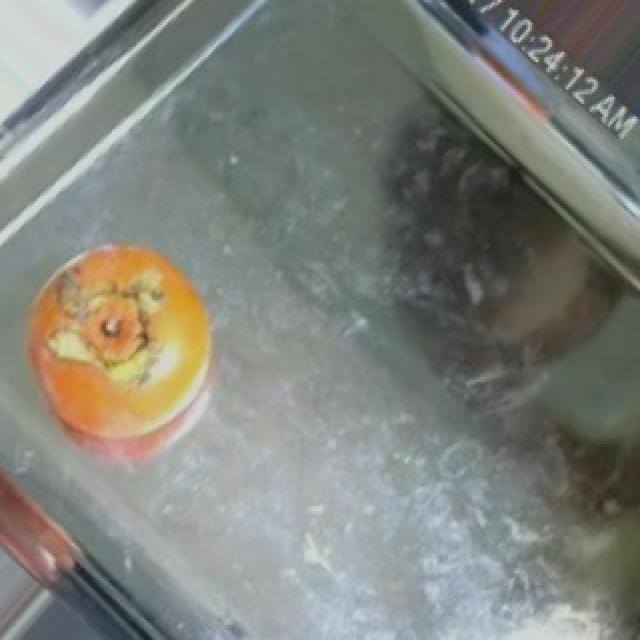Fruit: (4, 224, 238, 476)
